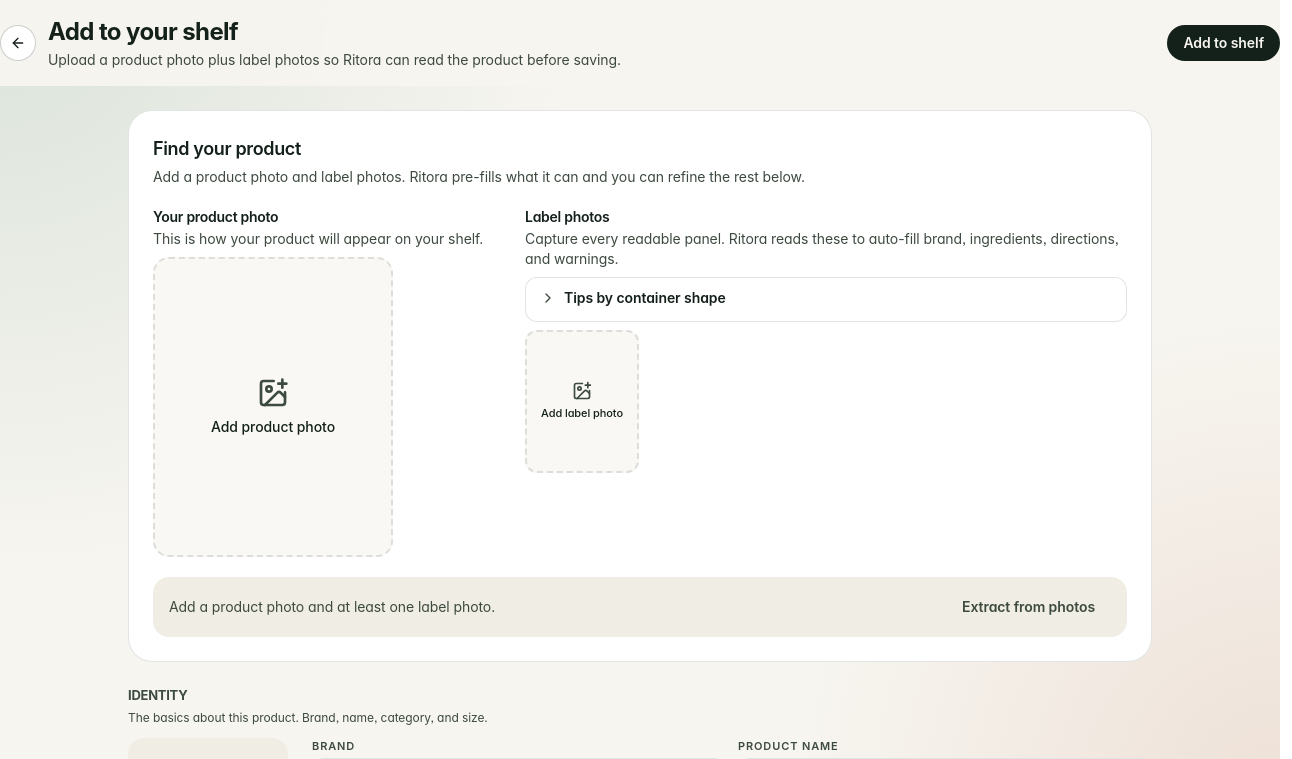
it: AddProductPage › shows a validation error when required fields are missing
Click the button "Add to shelf" at (1224, 43), box 1168,25 -> 1280,61
(page scrolled)
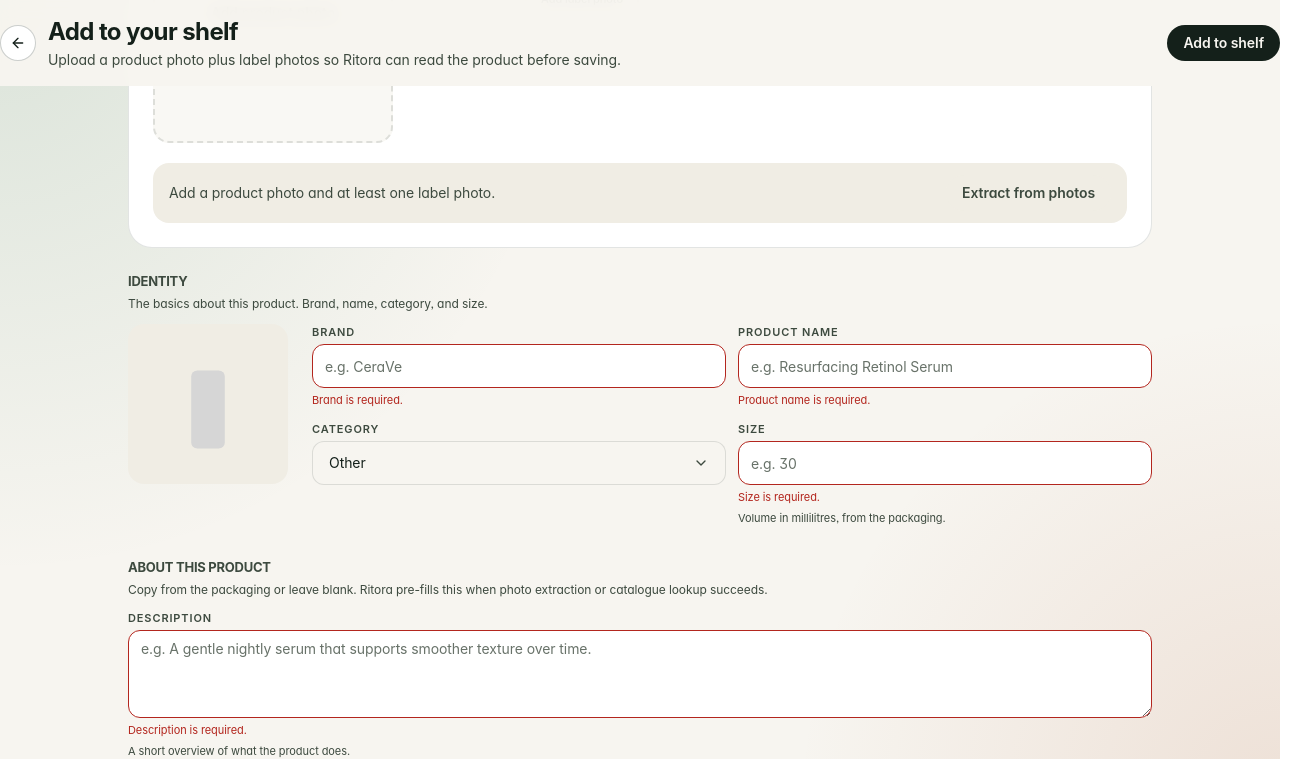
Result: the text "Brand is required." is shown at 312,393 -> 403,407
